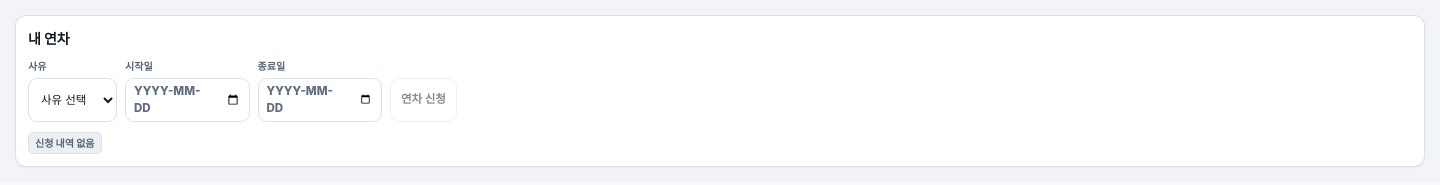
it: LeaveBody authoritative personas › preserves AM and PM create intent and reports missing-home-branch conflict
Select "반차(오후)" in the dropdown labelled "사유" at (72, 100), box [28,78,117,122]
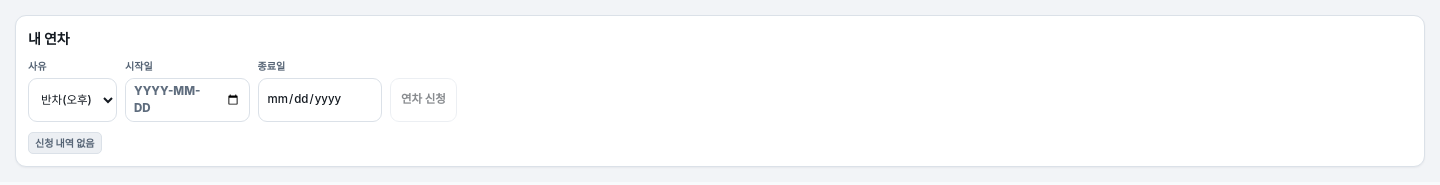
Type "2026-08-03" into the date field labelled "시작일".
click(187, 100); type("2026-08-03")  # box [125,78,250,122]
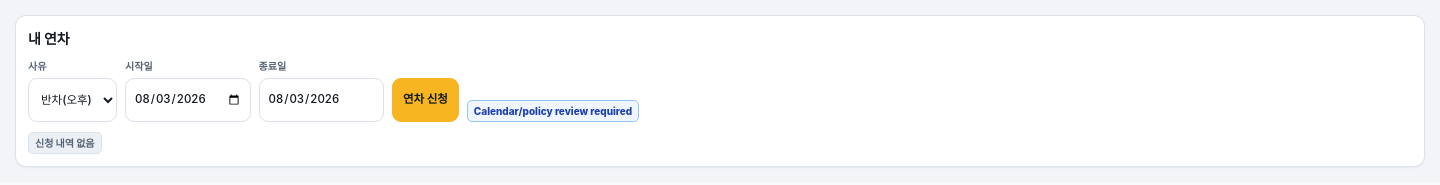
Click the button "연차 신청".
click(425, 100)  # box [392,78,459,122]
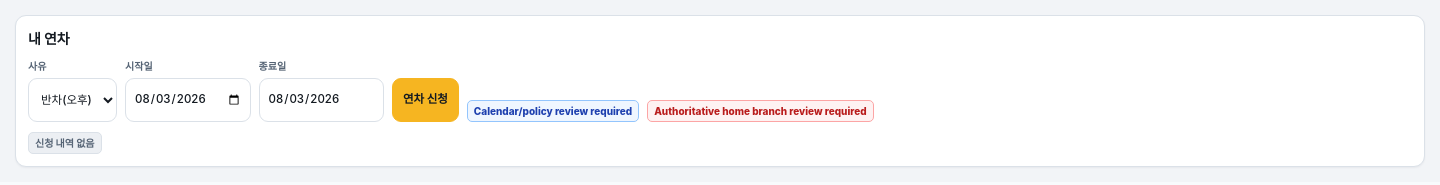
Now the text "Authoritative home branch review required" is shown, box [647,100,874,122]
